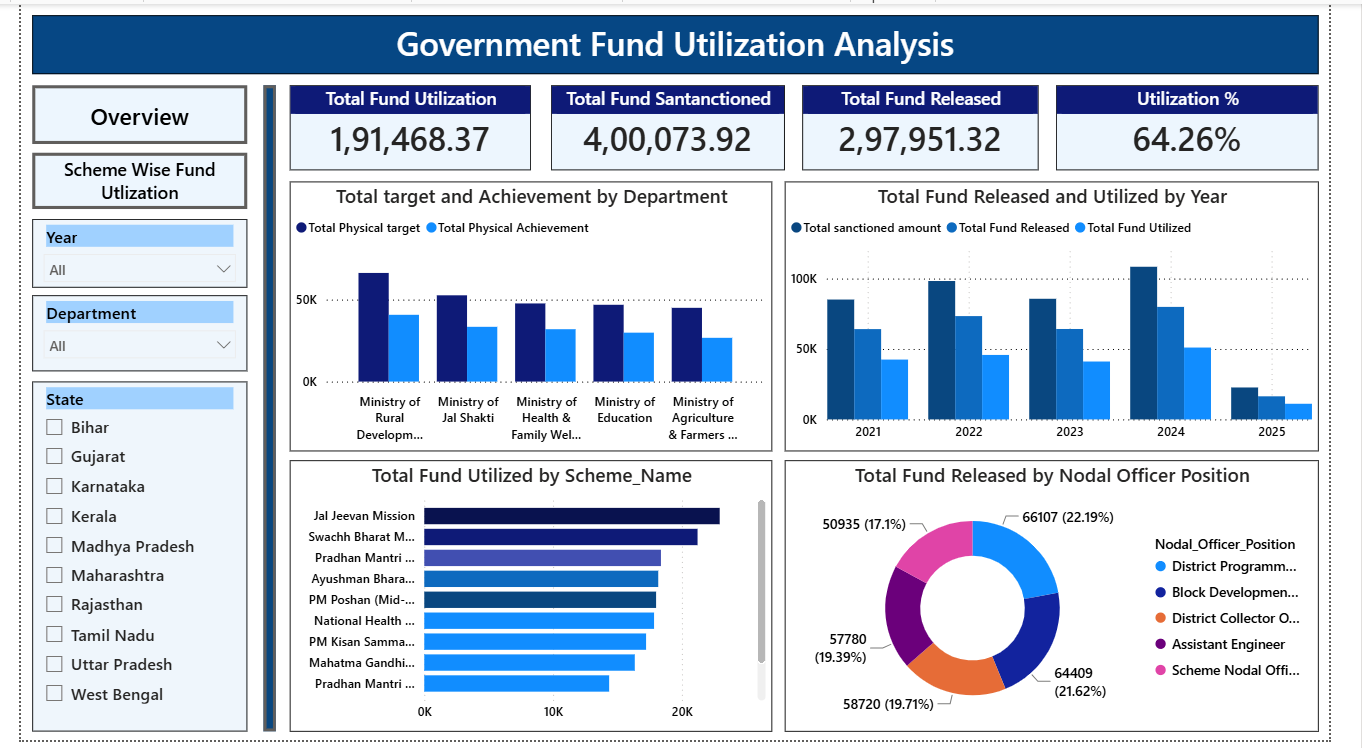

The page's visual inventory and layout, read from the dashboard file:
{"tool":"powerbi","page":{"name":"Page 2","canvas":[1280,720],"ordinal":0},"visuals":[{"type":"textbox","box":[11,11,1258.3,57.5],"z":0},{"type":"slicer","fields":{"Values":["Location_Dim.State"]},"box":[11,369.3,210.3,342.4],"z":1000},{"type":"slicer","fields":{"Values":["Department_Dim.Department"]},"box":[11,284.9,210.3,74.6],"z":2000},{"type":"clusteredColumnChart","title":"Total target and Achievement by Department","fields":{"Category":["Department_Dim.Department"],"Y":["Measures (2).Total Physical target","Measures (2).Total Physical Achievement"]},"box":[262.9,173.6,472,264.1],"z":3000},{"type":"clusteredColumnChart","title":"Total Fund Released and Utilized by Year","fields":{"Category":["Date_Dim.Year"],"Y":["Measures (2).Total_sanctioned_amount","Measures (2).Total_Fund_Released","Measures (2).Total_Fund_Utilized"]},"box":[747.2,173.6,522.1,264.1],"z":4000},{"type":"clusteredBarChart","fields":{"Category":["Gov_fund_fact.Scheme_Name"],"Y":["Measures (2).Total_Fund_Utilized"]},"box":[262.9,446.3,472,265.4],"z":5000},{"type":"donutChart","title":"Total Fund Released by Nodal Officer Position","fields":{"Category":["Nodal_office_Dim.Nodal_Officer_Position"],"Y":["Measures (2).Total Fund Released"]},"box":[747.2,446.3,522.1,265.4],"z":6000},{"type":"card","title":"Total Fund Utilization","fields":{"Values":["Measures (2).Total Fund Utilized"]},"box":[262.9,79.5,236,83.2],"z":7000},{"type":"card","title":"Total Fund Santanctioned","fields":{"Values":["Measures (2).Total sanctioned amount"]},"box":[518.5,79.5,228.7,83.2],"z":8000},{"type":"card","title":"Total Fund Released","fields":{"Values":["Measures (2).Total Fund Released"]},"box":[764.3,79.5,231.1,83.2],"z":9000},{"type":"card","title":"Utilization %","fields":{"Values":["Measures (2).Utilization %"]},"box":[1012.5,79.5,256.8,83.2],"z":10000},{"type":"slicer","fields":{"Values":["Date_Dim.Year"]},"box":[11,210.3,210.3,67.3],"z":11000},{"type":"actionButton","box":[11,79.5,210.3,57.5],"z":12000},{"type":"actionButton","box":[11,145.5,210.3,55],"z":13000},{"type":"actionButton","box":[237.2,79.5,12.2,632.2],"z":14000}]}

Visuals, with their boxes in screenshot pixels (x1, y1, x2, y2), scaled from the page's 1280x720 canvas onto the 1362x748 screenshot:
textbox: bbox=(12, 11, 1351, 71)
slicer - Location_Dim.State: bbox=(12, 384, 235, 739)
slicer - Department_Dim.Department: bbox=(12, 296, 235, 373)
"Total target and Achievement by Department" clusteredColumnChart: bbox=(280, 180, 782, 455)
"Total Fund Released and Utilized by Year" clusteredColumnChart: bbox=(795, 180, 1351, 455)
clusteredBarChart - Gov_fund_fact.Scheme_Name x Measures (2).Total_Fund_Utilized: bbox=(280, 464, 782, 739)
"Total Fund Released by Nodal Officer Position" donutChart: bbox=(795, 464, 1351, 739)
"Total Fund Utilization" card: bbox=(280, 83, 531, 169)
"Total Fund Santanctioned" card: bbox=(552, 83, 795, 169)
"Total Fund Released" card: bbox=(813, 83, 1059, 169)
"Utilization %" card: bbox=(1077, 83, 1351, 169)
slicer - Date_Dim.Year: bbox=(12, 218, 235, 288)
actionButton: bbox=(12, 83, 235, 142)
actionButton: bbox=(12, 151, 235, 208)
actionButton: bbox=(252, 83, 265, 739)
